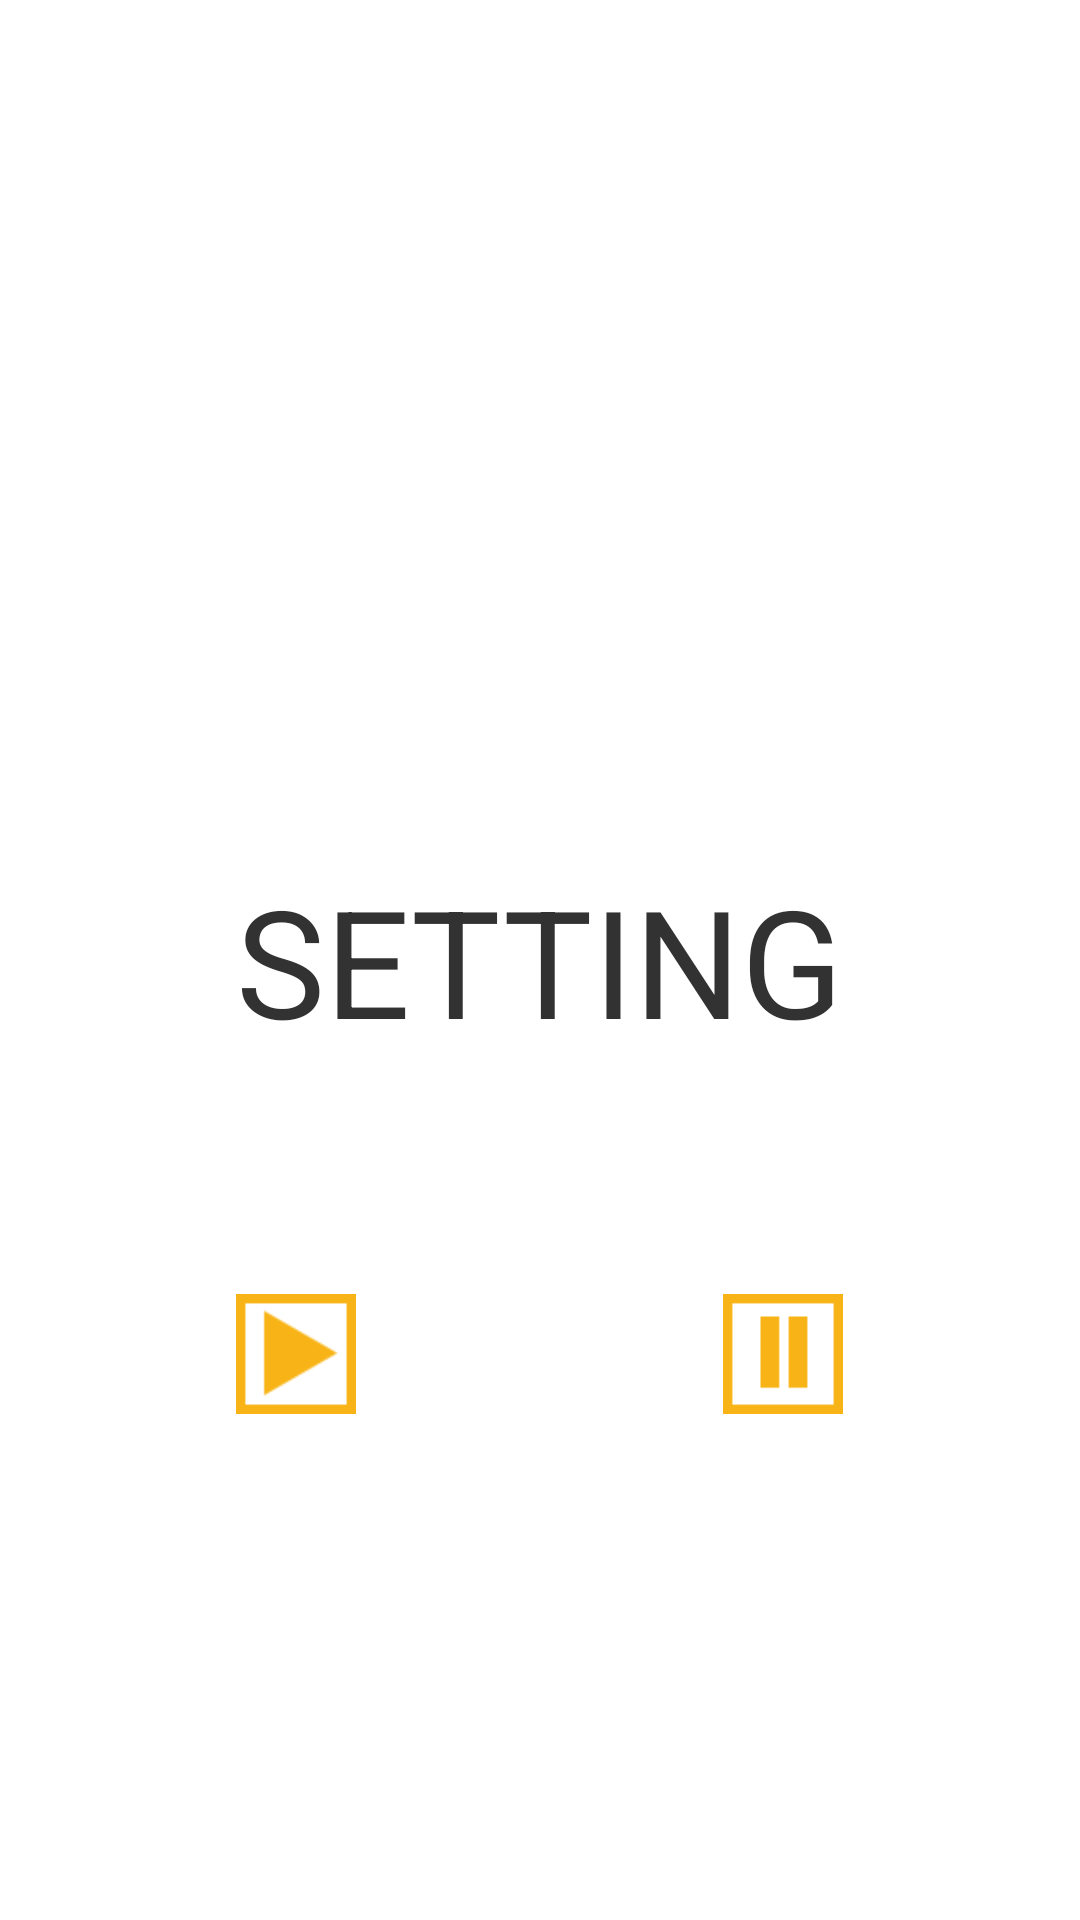

Icons on this 1080px×1920px Android screen, each with its box as (x1, y1, x2, y2):
audiostop: (723, 1294, 843, 1414)
playaudio: (236, 1294, 356, 1414)
